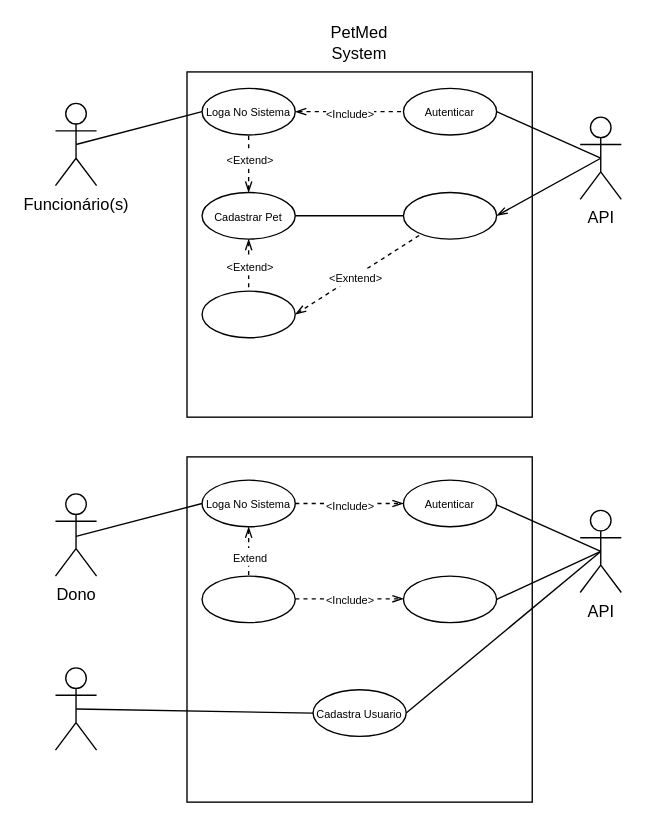
Image size: 645x826. Some labels were removed from this diagram. The centre of each missing label's shape, as x and y in pixels:
"Administrador" goes at (75,708).
"Buscar Consultas" goes at (449,599).
"Cadastrar" goes at (449,215).
"Cadastrar Dono" goes at (248,314).
"Lista Consultas" goes at (248,599).
